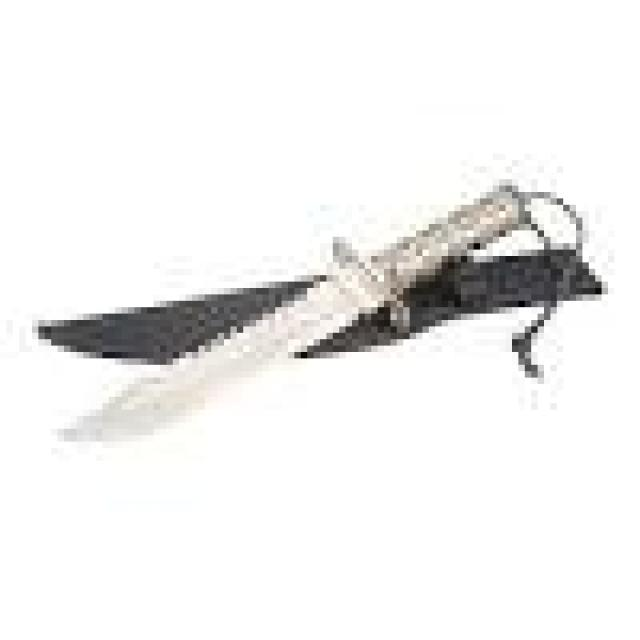Gun: (8, 161, 604, 466)
